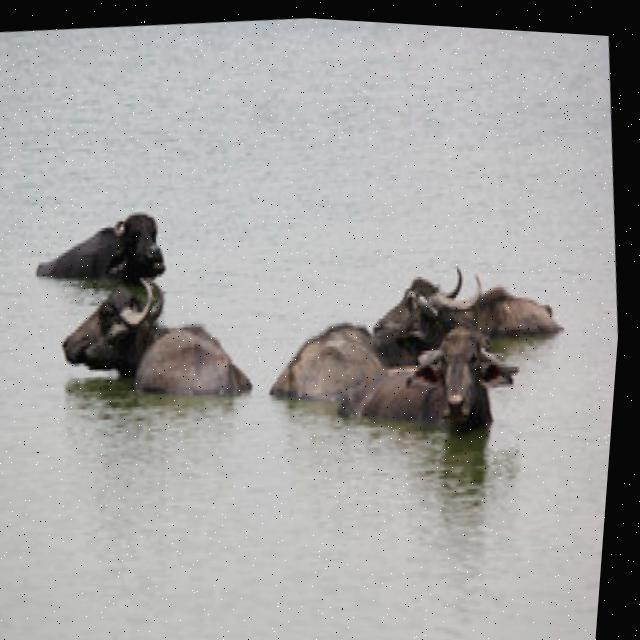Buffalo: (51, 260, 261, 422), (331, 306, 528, 446)
